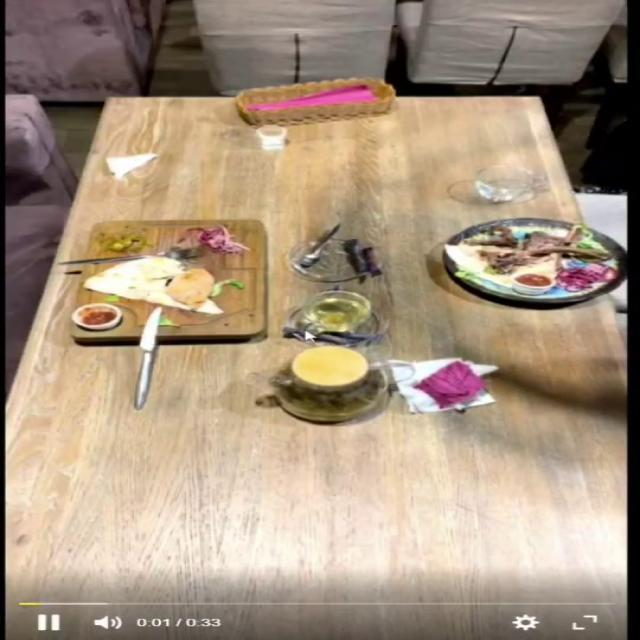meat: (56, 214, 277, 358), (439, 215, 628, 313)
tea: (269, 344, 385, 422)
